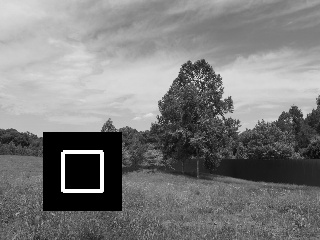square: (43, 132, 122, 211)
